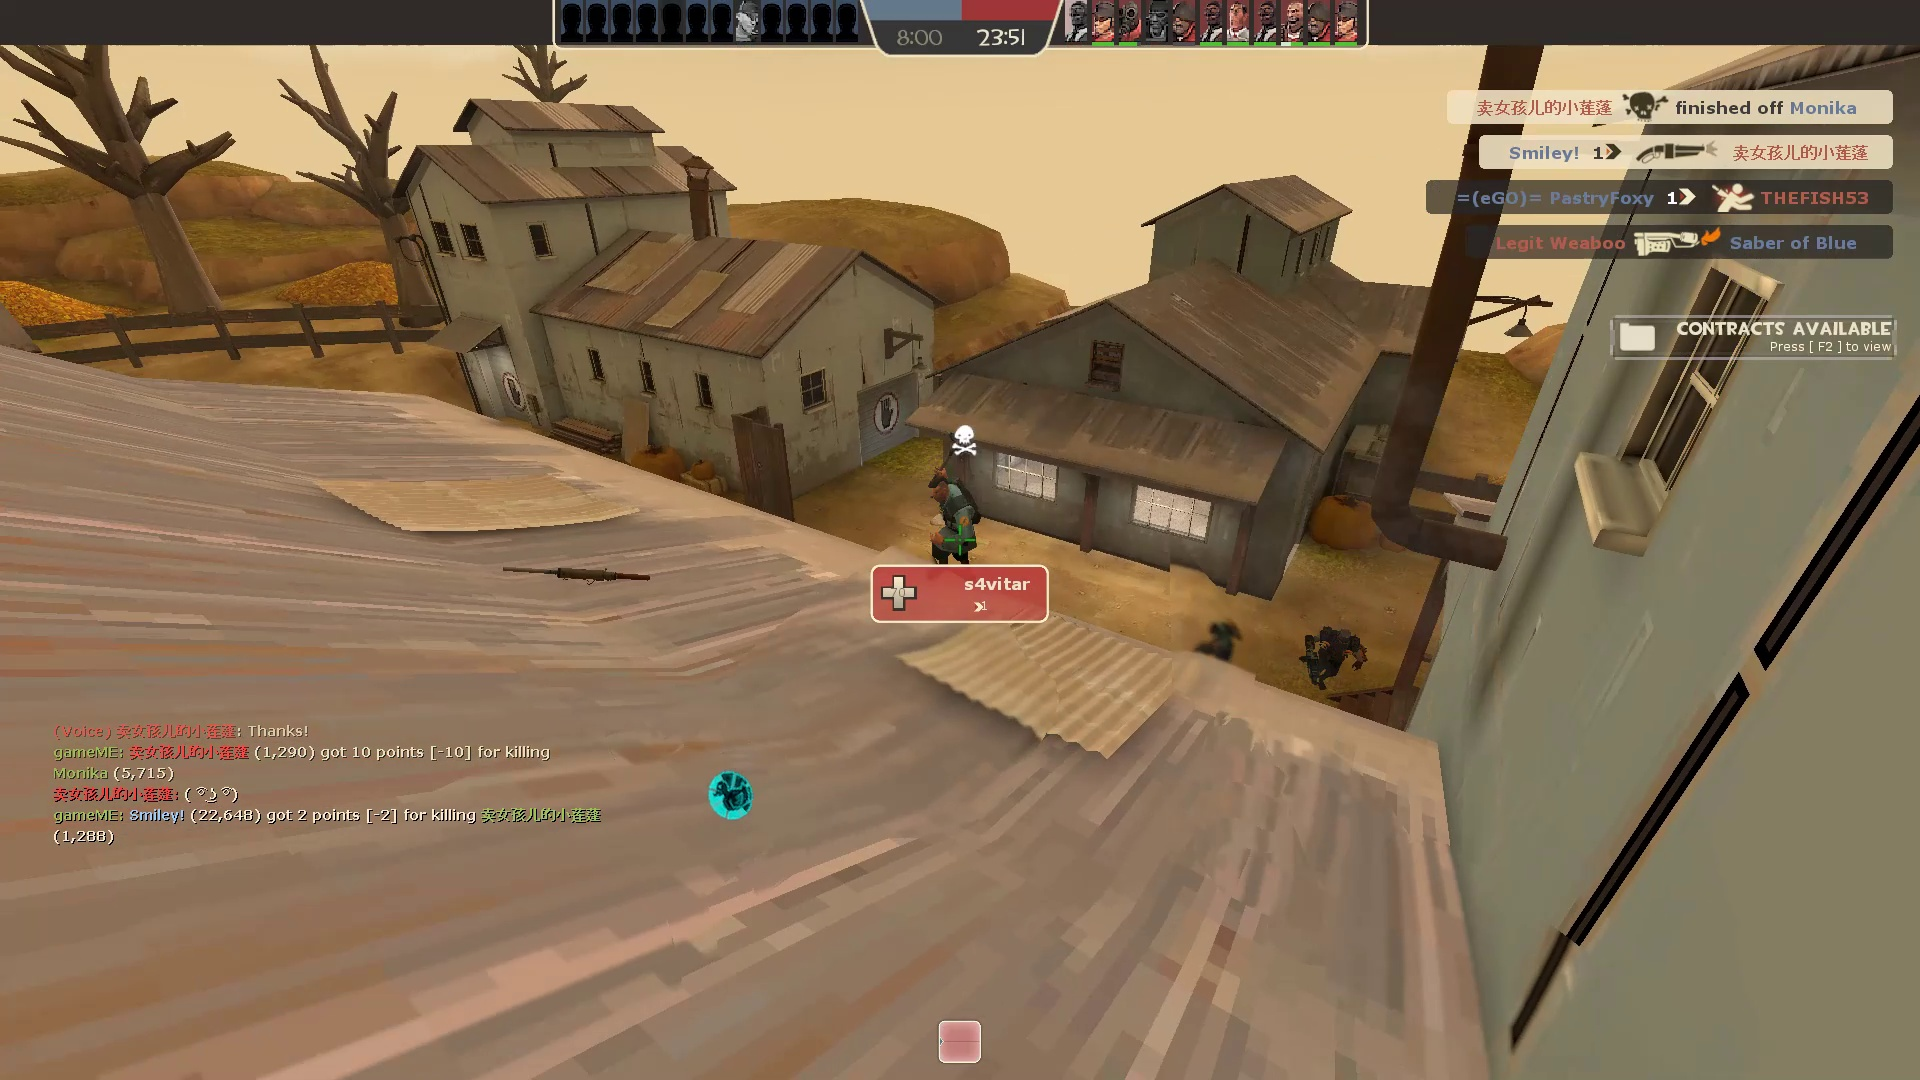blu_demo: (1295, 620, 1371, 694)
blu_pyro: (1189, 618, 1241, 680)
blu_soldier: (916, 464, 988, 591)
